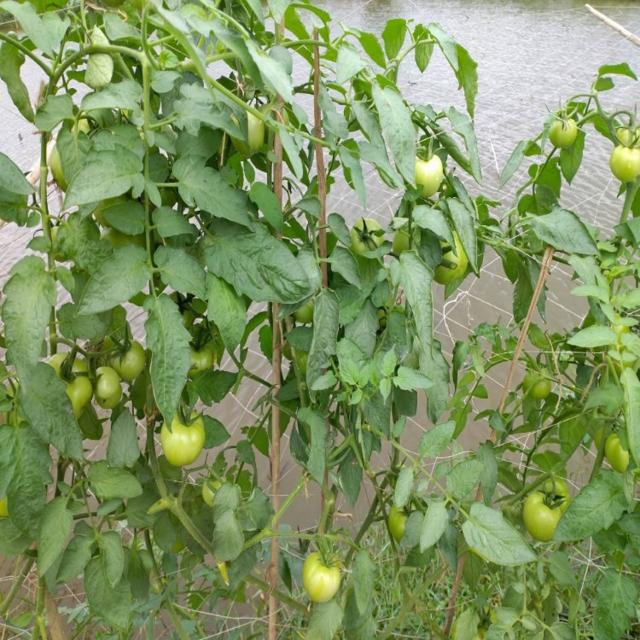tomato: (162, 417, 205, 467), (525, 482, 564, 537), (58, 353, 94, 411), (303, 552, 341, 602), (95, 364, 127, 410), (609, 143, 640, 185), (116, 340, 149, 378), (414, 151, 440, 197), (605, 434, 634, 475), (526, 368, 553, 407), (551, 118, 579, 153), (354, 219, 383, 252), (247, 117, 270, 155), (444, 249, 467, 285), (193, 336, 214, 373), (385, 508, 409, 540), (614, 127, 640, 152), (205, 472, 223, 506), (49, 152, 65, 188)
